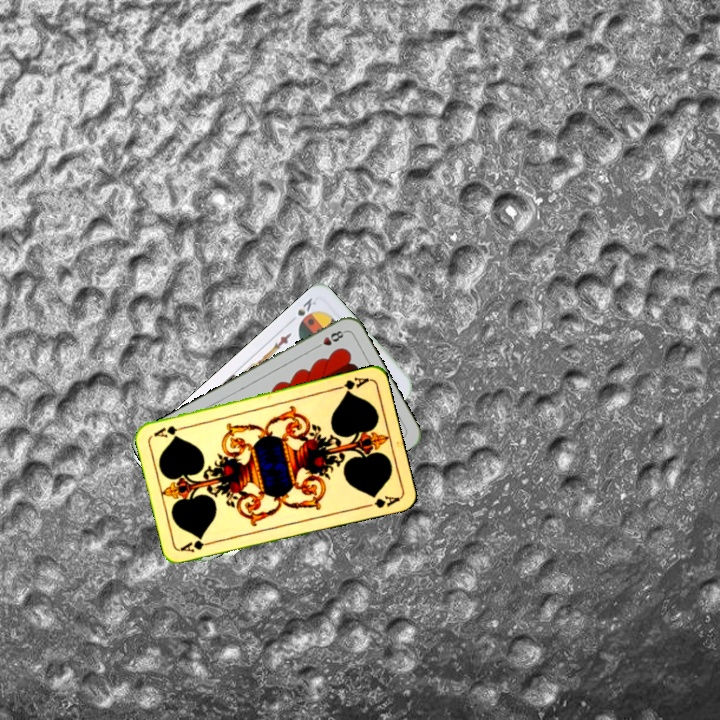GA: (331, 373, 371, 396), (177, 536, 217, 555)
H8: (310, 326, 348, 352)
SK: (293, 294, 319, 319)
